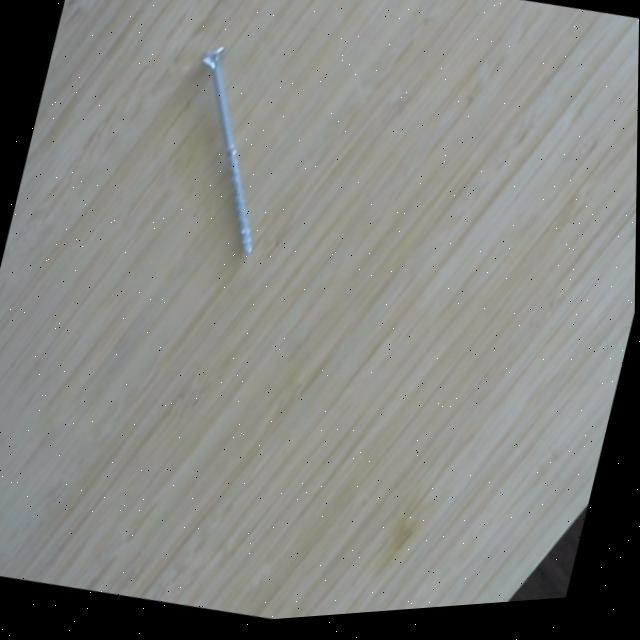Long screw: (192, 37, 260, 268)
